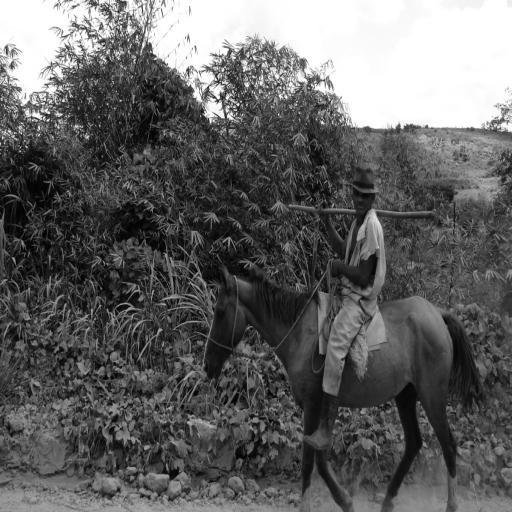horse: (202, 263, 490, 509)
